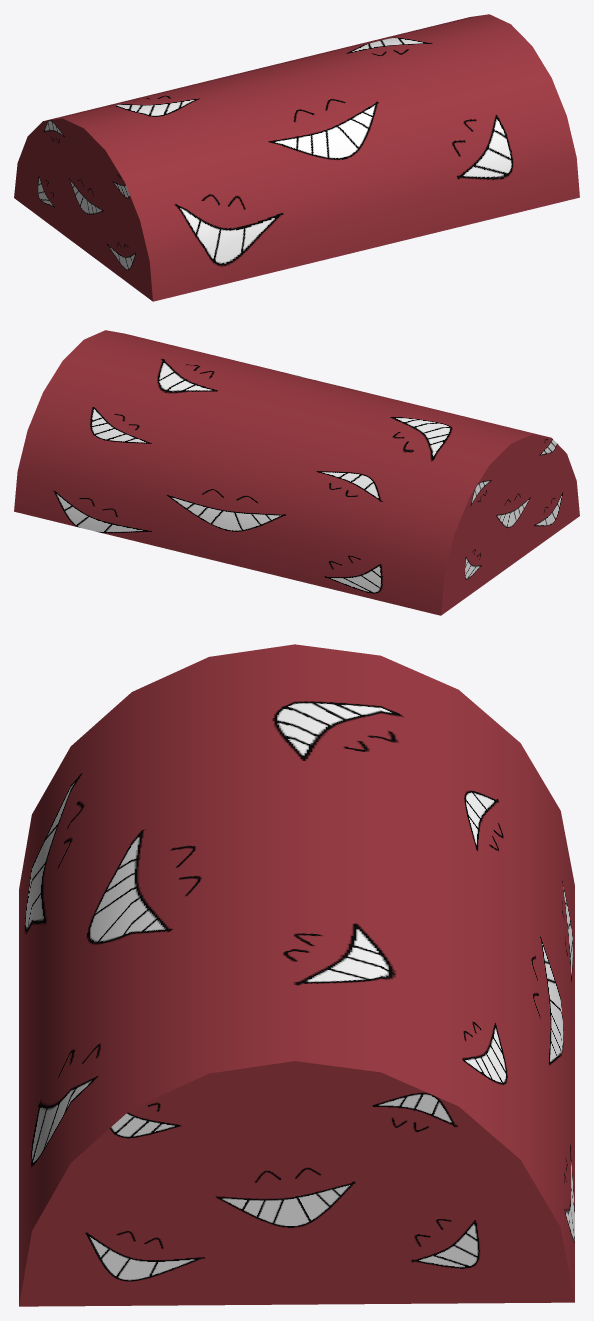
File: Superior.obj
The picture shows the model from 3 angles, top to bottom: view 1: azimuth 30°, elevation 25°; view 2: azimuth 150°, elevation 25°; view 3: azimuth 270°, elevation 25°; orthographic projection. The views are drawn at different scales.
Visible parts, largest first — view 1: polySurface20; view 2: polySurface20; view 3: polySurface20.
Boxes of the visible parts, bbox=[...] form: polySurface20: bbox=[14, 14, 579, 301]; polySurface20: bbox=[14, 330, 579, 615]; polySurface20: bbox=[19, 644, 574, 1306].
Bounding box in the file's own units: 2.19 × 0.6031 × 1.24.
Materials: 3 (3 with a texture image).
